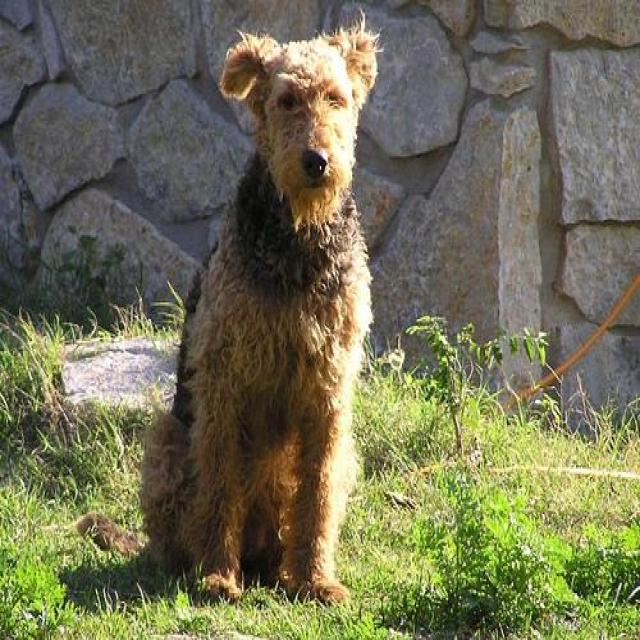airedale: (73, 5, 388, 611)
